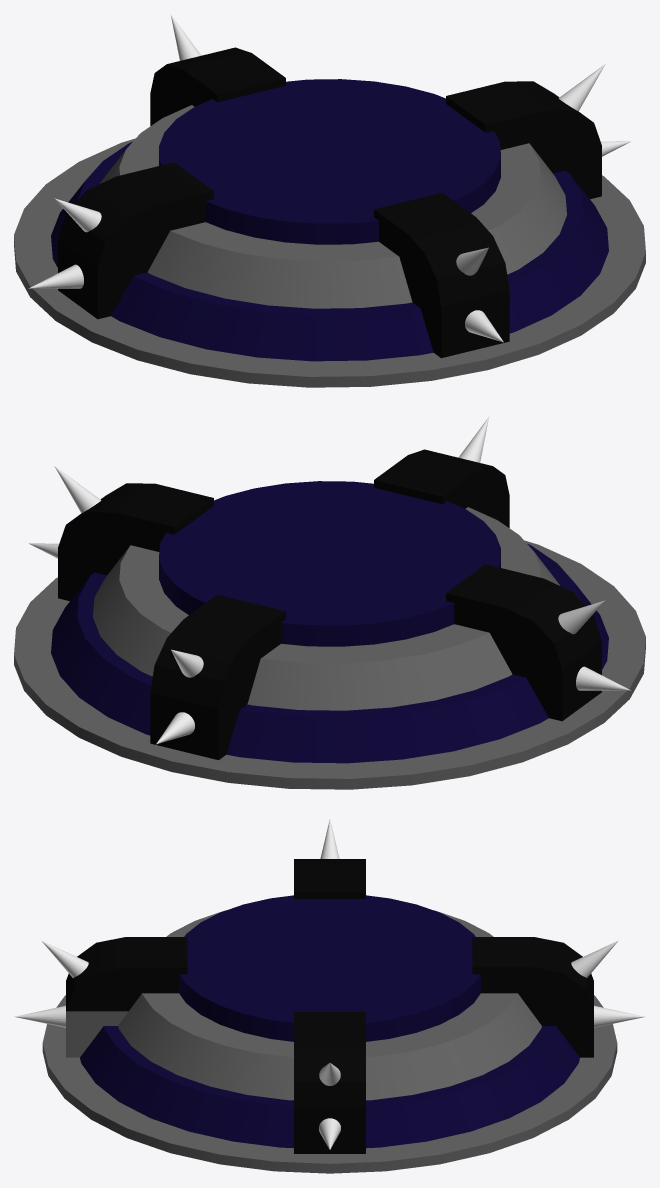
Rendered from towerspot.fbx.
3 renders of one model, top to bottom at view 1: azimuth 30°, elevation 25°; view 2: azimuth 150°, elevation 25°; view 3: azimuth 270°, elevation 25°, orthographic. The views are drawn at different scales.
Parts seen in each view (by area): view 1: Cylinder.001; view 2: Cylinder.001; view 3: Cylinder.001.
Boxes of the visible parts, x1,y1,x2,y2 form: Cylinder.001: (14,14,645,387); Cylinder.001: (14,416,645,789); Cylinder.001: (14,819,645,1173).
Size of the model in its own units: 1320 by 258 by 1320.
